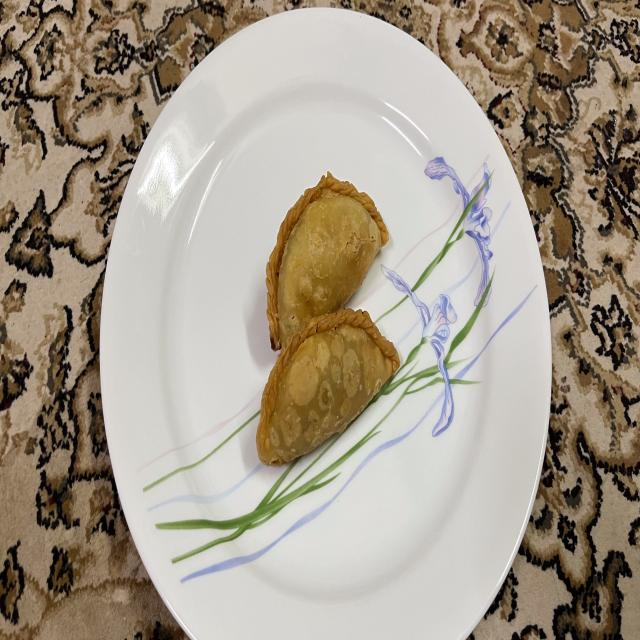karipap: (256, 309, 400, 464), (266, 173, 389, 351)
